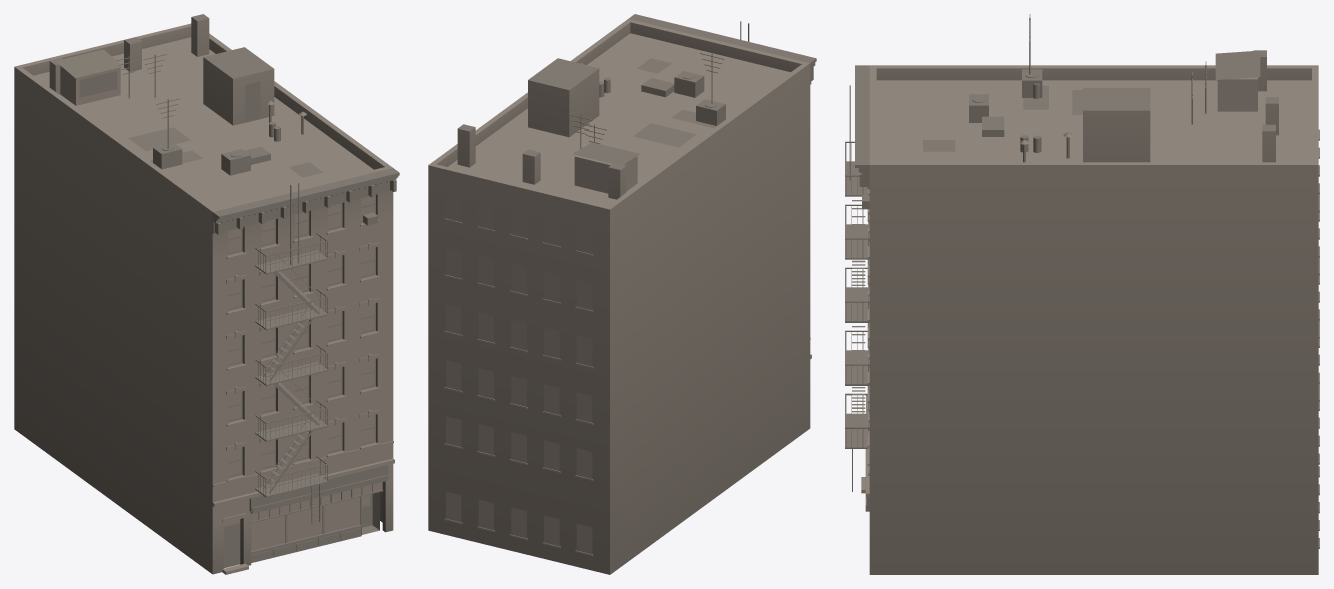
File: tenement_i.glb
3 views of the same model, side by side, from view 1: azimuth 30°, elevation 25°; view 2: azimuth 150°, elevation 25°; view 3: azimuth 270°, elevation 25° (orthographic). The views are drawn at different scales.
Visible parts, largest first — view 1: tenement_i; view 2: tenement_i; view 3: tenement_i.
Boxes of the visible parts, x1,y1,x2,y2 form: tenement_i: [14, 14, 399, 574]; tenement_i: [428, 14, 816, 574]; tenement_i: [845, 14, 1319, 574].
Bounding box in the file's own units: 10.5 × 23.18 × 21.15.
